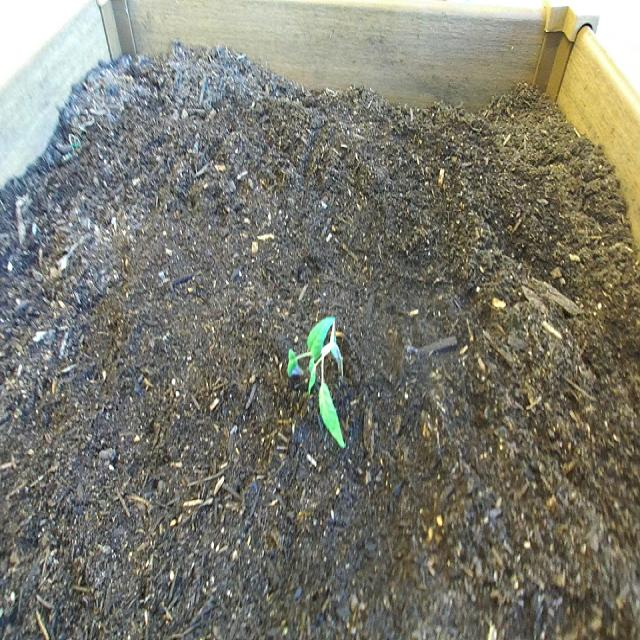Healthy: (280, 302, 358, 475)
